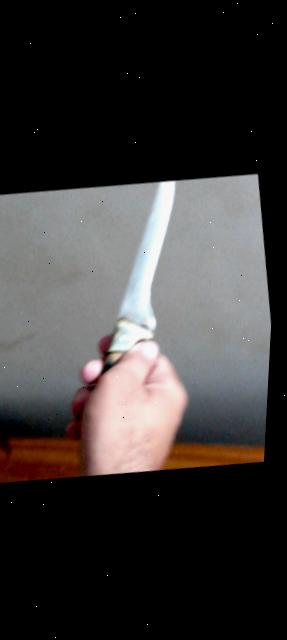long knife: (43, 171, 224, 481)
